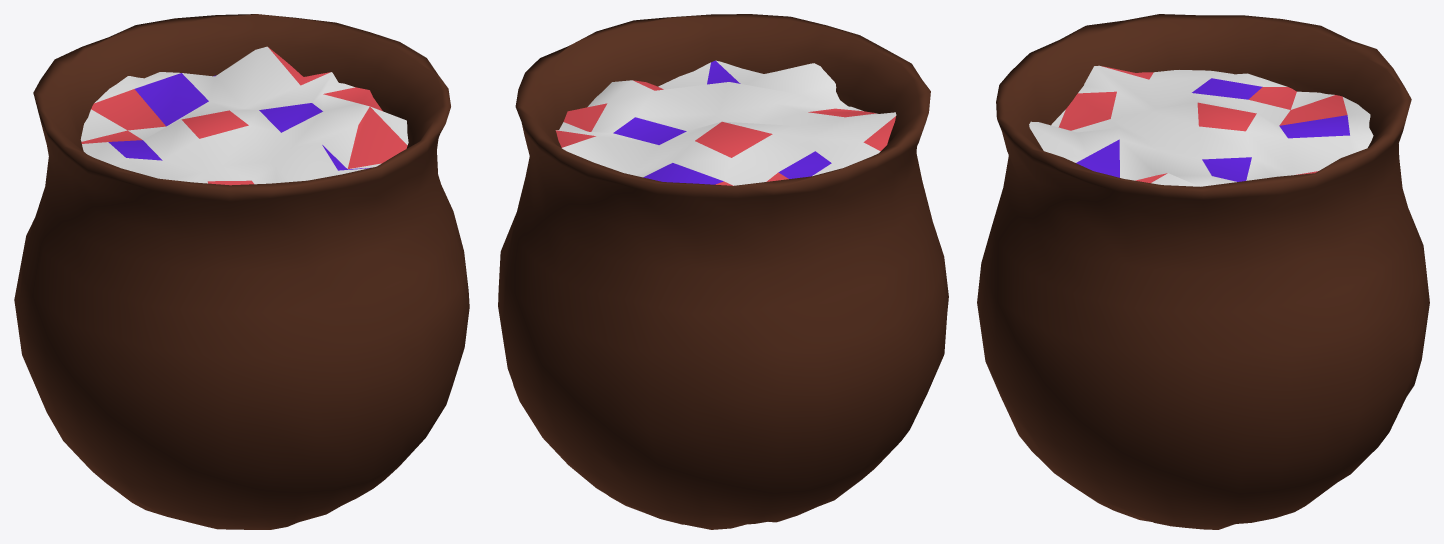
The model's file is Sack.fbx.
The picture shows the model from 3 angles, left to right: view 1: azimuth 30°, elevation 25°; view 2: azimuth 150°, elevation 25°; view 3: azimuth 270°, elevation 25°; orthographic projection.
Visible parts, largest first — view 1: Sphere; view 2: Sphere; view 3: Sphere.
Part boxes in pixels (<box>): Sphere: <box>14,14,469,529</box>; Sphere: <box>498,14,948,529</box>; Sphere: <box>977,14,1429,529</box>.
Bounding box in the file's own units: 200 × 200 × 200.
